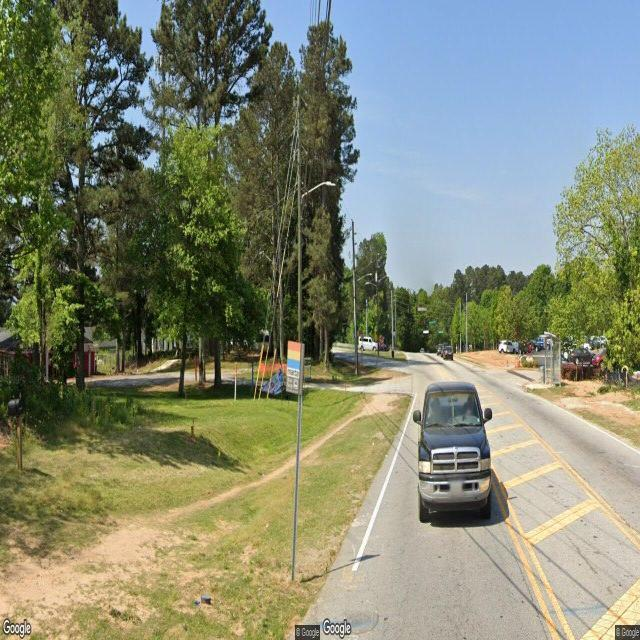shelter: (538, 333, 562, 388)
trash_can: (540, 366, 544, 384)
